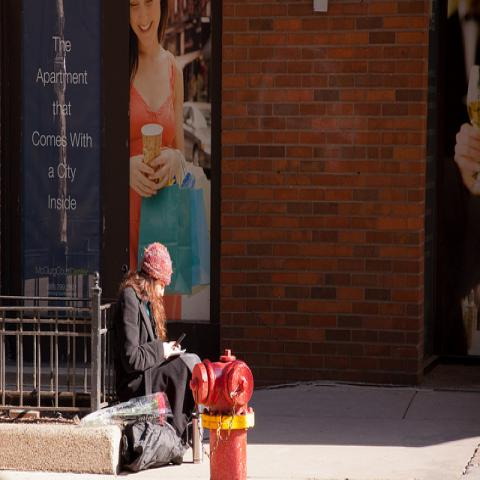car: (182, 102, 211, 170)
